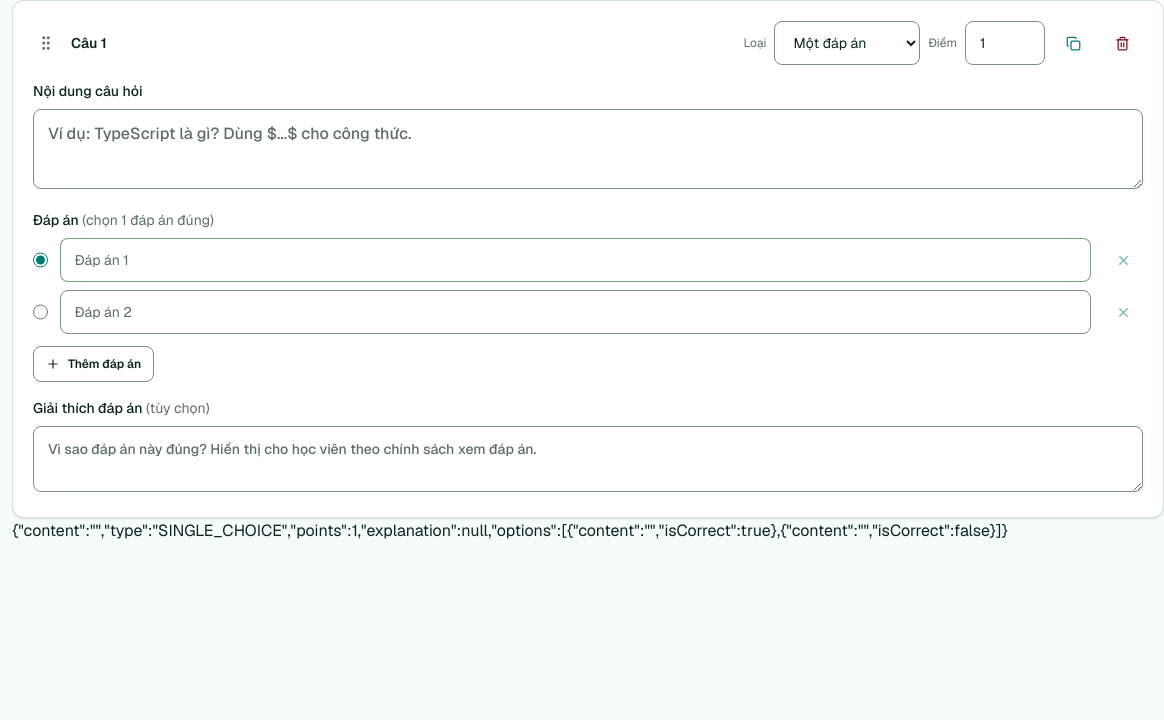
Test: essay question authoring › switches the form between options and Max Points / Grading Guide
This screenshot has width=1164, height=720.
Expected: the field named "Nội dung đáp án 1" is shown, [60, 238, 1091, 282]
Select "Tự luận (Essay)" in the dropdown named "Loại Câu 1": (848,43) [774, 21, 920, 65]
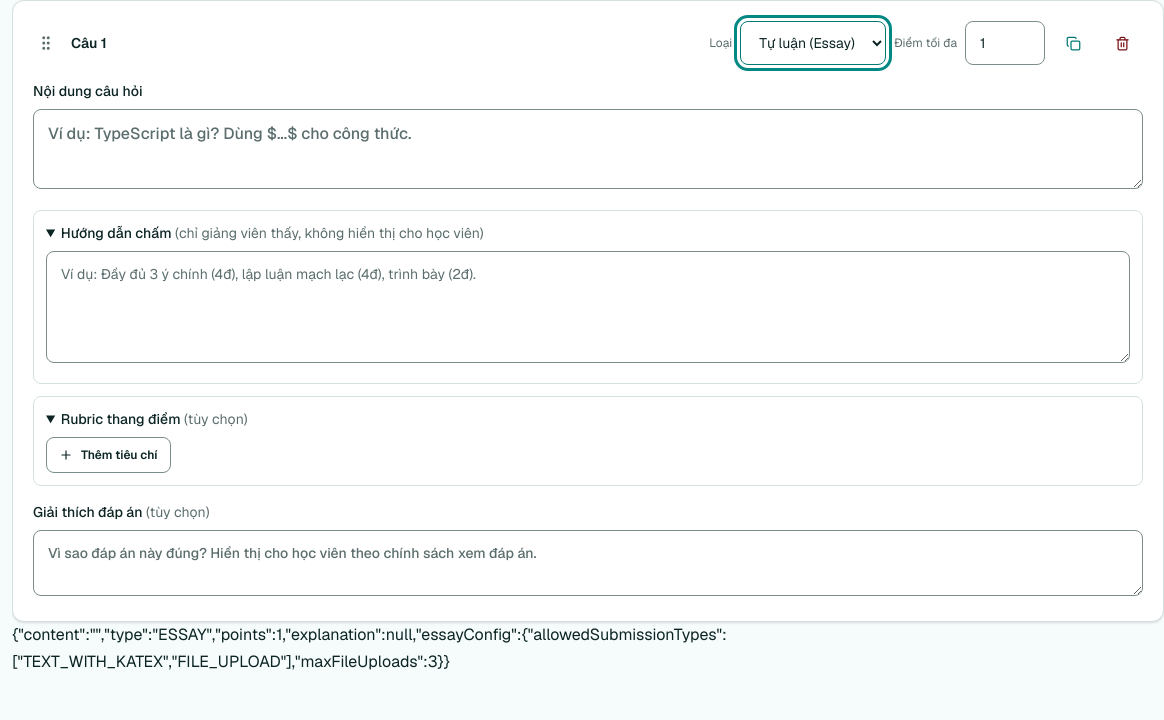
Expected: the number field named "Điểm tối đa Câu 1" is shown, [965, 21, 1045, 65]
In the text box with placeholder "Đầy đủ 3 ý chính": (588,307) [46, 251, 1130, 363], type "Rubric text"
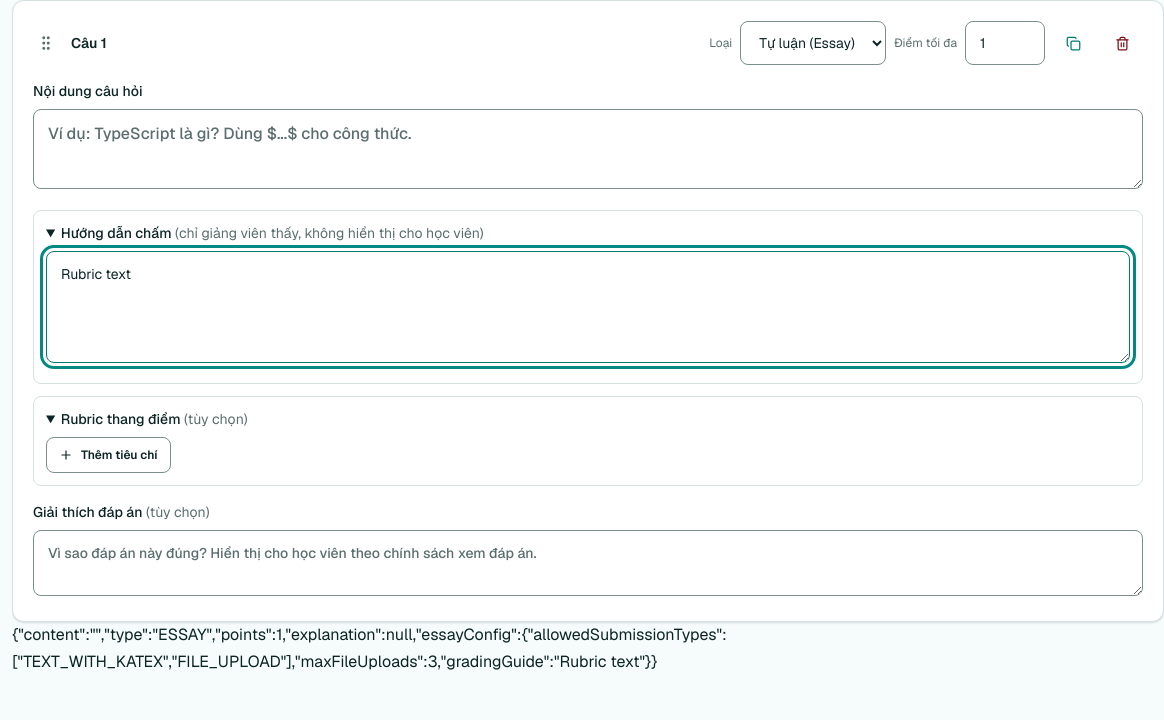
Now the text with test id "payload" shows "\"gradingGuide\":\"Rubric text\"", box [12, 624, 727, 672]
Select "Nhiều đáp án" in the dropdown named "Loại Câu 1": (813,43) [740, 21, 886, 65]
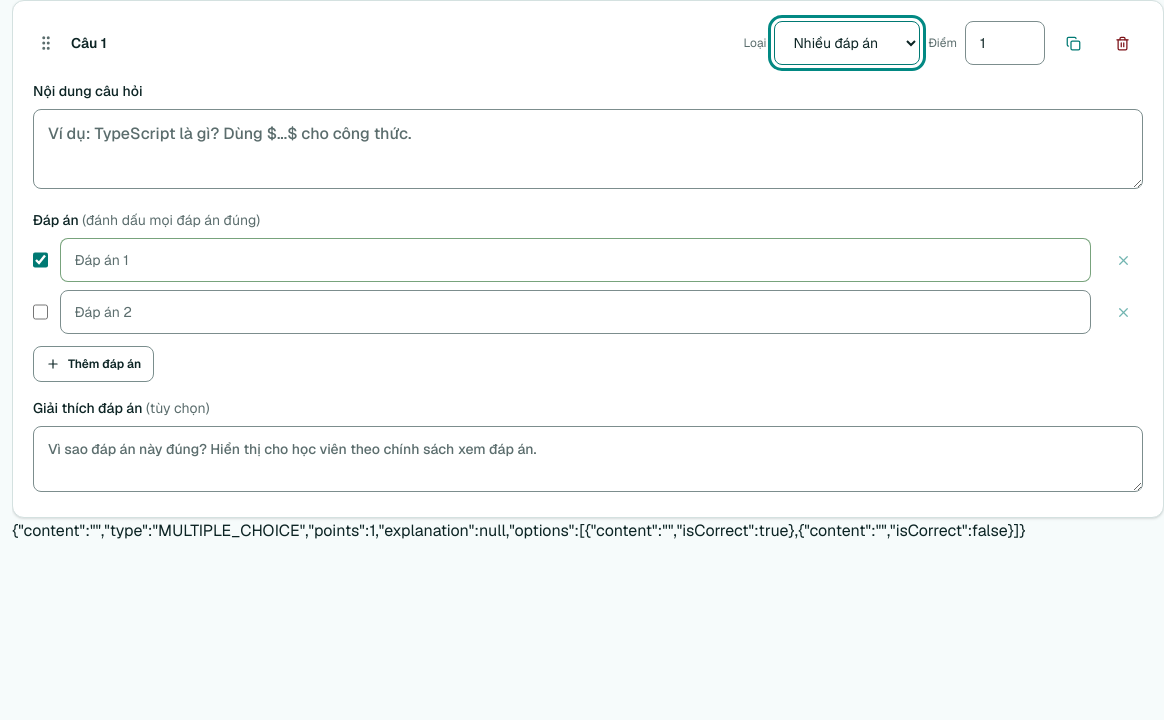
Now the field named "Nội dung đáp án 1" is shown, box [60, 238, 1091, 282]
